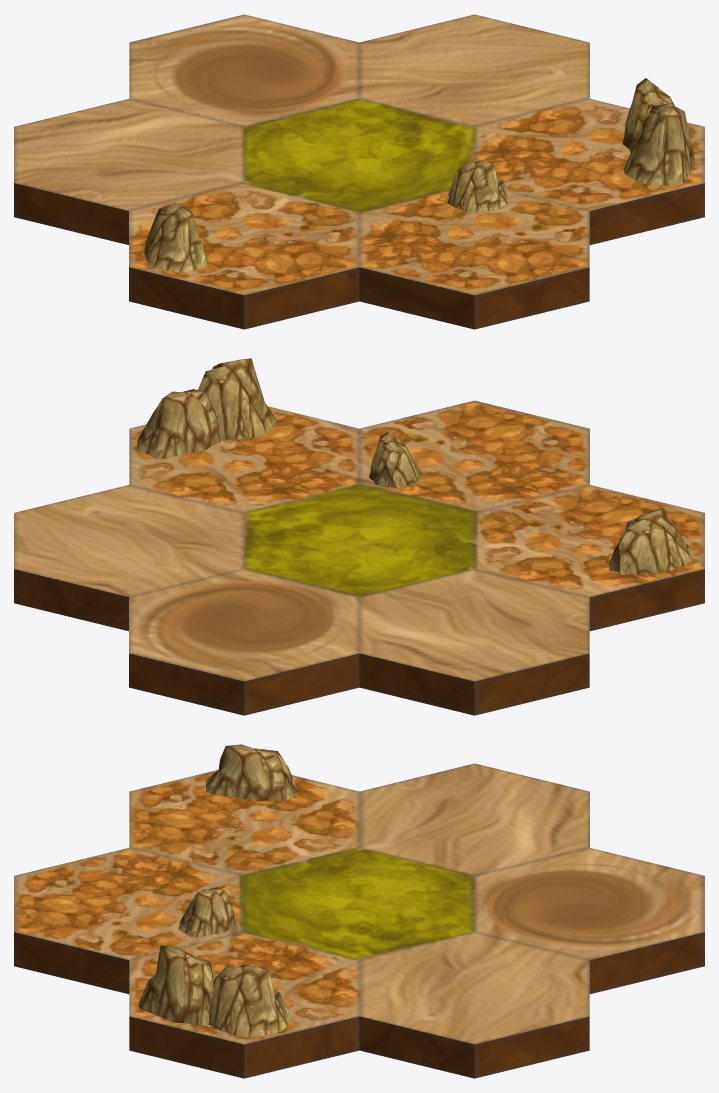
The model's file is Tile_Desert1.fbx.
3 views of the same model, one above another, from view 1: azimuth 30°, elevation 25°; view 2: azimuth 150°, elevation 25°; view 3: azimuth 270°, elevation 25° (orthographic).
Parts seen in each view (by area): view 1: desertTile1, mountain3, mountain5, mountain4, mountain2; view 2: desertTile1, mountain2, mountain3, mountain5, mountain4; view 3: desertTile1, mountain2, mountain3, mountain5, mountain4.
Part boxes in pixels (box(x1,y1,x2,y2)): desertTile1: box(14, 14, 704, 329); mountain3: box(623, 102, 695, 185); mountain5: box(144, 202, 207, 272); mountain4: box(447, 161, 511, 212); mountain2: box(622, 78, 690, 152); desertTile1: box(14, 400, 704, 715); mountain2: box(137, 389, 221, 458); mountain3: box(198, 358, 276, 439); mountain5: box(609, 508, 693, 575); mountain4: box(369, 432, 422, 488); desertTile1: box(14, 763, 704, 1078); mountain2: box(208, 964, 292, 1036); mountain3: box(137, 945, 215, 1025); mountain5: box(206, 744, 298, 801); mountain4: box(179, 887, 237, 937).
Size of the model in its own units: 128 by 20.15 by 133.
